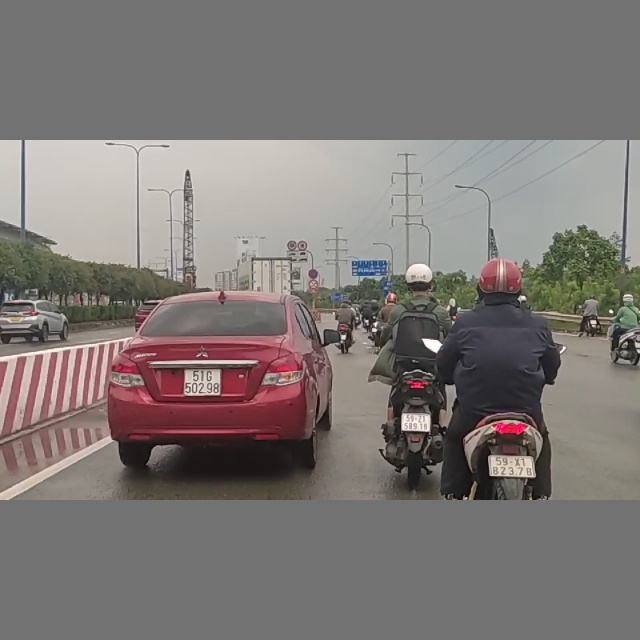P.130: (307, 268, 319, 279)
